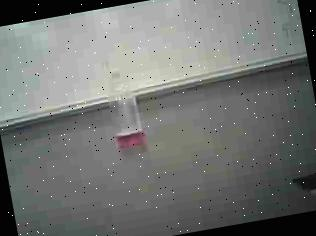hazard: (100, 56, 150, 154)
